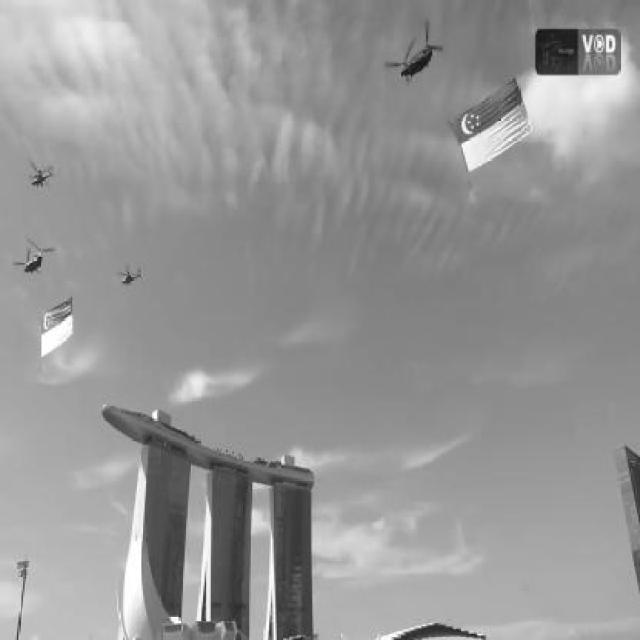Helicopter: (382, 18, 446, 87), (11, 235, 57, 278), (28, 155, 57, 192), (116, 261, 143, 289)
